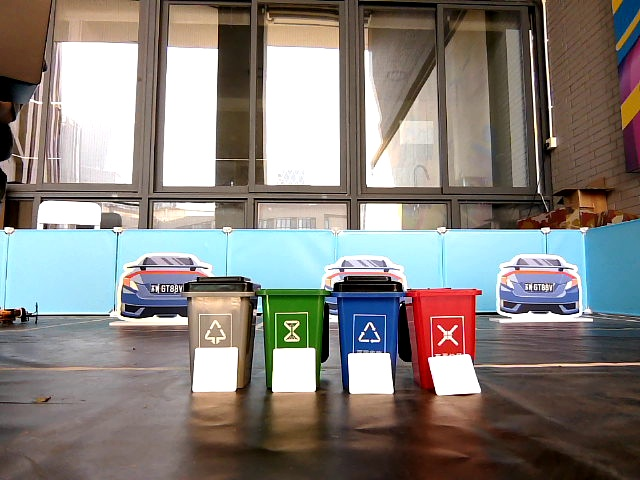blue_close: (336, 275, 397, 351)
green_open: (264, 288, 321, 345)
grey_close: (189, 276, 251, 346)
red_open: (412, 288, 473, 353)
